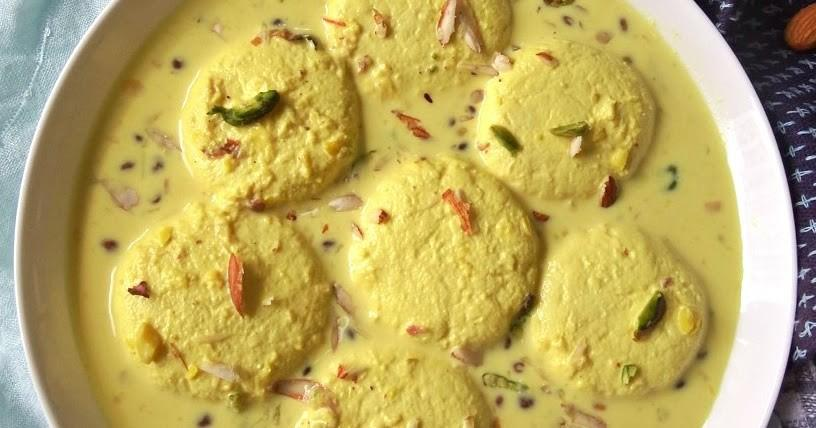RasMalai: (64, 0, 742, 428)
